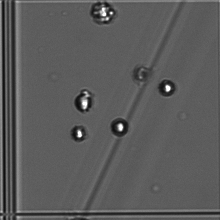Dead Cell: (131, 65, 153, 82)
Living Cell: (89, 1, 117, 24), (72, 89, 94, 113), (110, 116, 130, 137), (156, 78, 177, 97), (70, 124, 88, 142)
